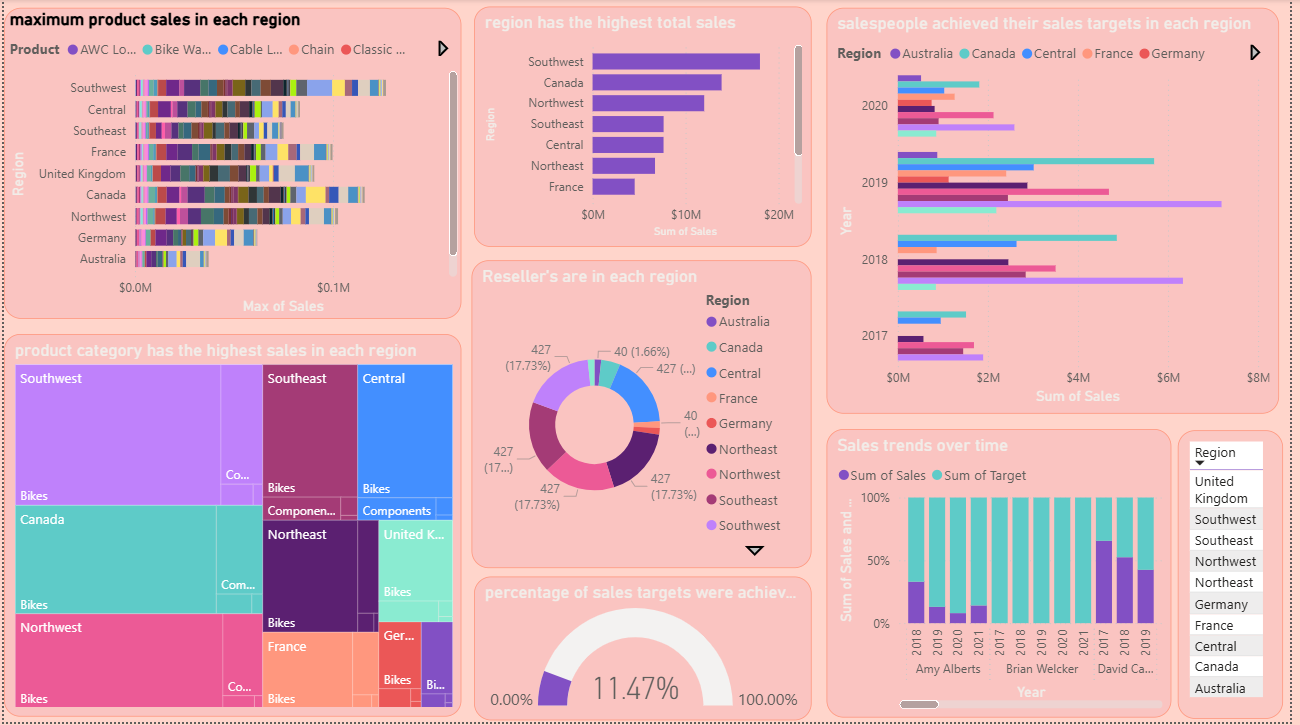

What the dashboard file says about the page in this screenshot:
{"tool":"powerbi","page":{"name":"Report","canvas":[1280,720],"ordinal":0},"visuals":[{"type":"barChart","title":"maximum product sales in each region","fields":{"Category":["Region.Region"],"Y":["Max(Sales.Sales)"],"Series":["Product.Product"]},"box":[0,8.7,455.3,309.7],"z":0},{"type":"treemap","title":"product category has the highest sales in each region","fields":{"Group":["Region.Region"],"Details":["Product.Category"],"Values":["Sum(Sales.Sales)"]},"box":[0,333.4,455.3,380.7],"z":1000},{"type":"clusteredBarChart","title":"region has the highest total sales","fields":{"Category":["Region.Region"],"Y":["Sum(Sales.Sales)"]},"box":[467.7,7.5,335.9,238.8],"z":2000},{"type":"donutChart","title":"Reseller''s are in each region","fields":{"Category":["Region.Region"],"Series":["Reseller.Country-Region"],"Y":["CountNonNull(Reseller.Reseller)"]},"box":[465.2,260,338.4,306],"z":3000},{"type":"hundredPercentStackedColumnChart","title":"Sales trends over time","fields":{"Category":["Salesperson.Salesperson","Targets.TargetMonth.Variation.Date Hierarchy.Year"],"Y":["Sum(Sales.Sales)","Sum(Targets.Target)"]},"box":[818.5,427.9,343.3,287.4],"z":4000},{"type":"clusteredBarChart","title":"salespeople achieved their sales targets in each region","fields":{"Category":["Sales.OrderDate.Variation.Date Hierarchy.Year"],"Y":["Sum(Sales.Sales)"],"Series":["Region.Region"]},"box":[818.5,8.7,450.3,404.3],"z":5000},{"type":"gauge","title":"percentage of sales targets were achieved in each region","fields":{"Y":["Product.TargetAchievement%"]},"box":[467.7,574.7,335.9,143.1],"z":6000},{"type":"tableEx","fields":{"Values":["Region.Region"]},"box":[1168.1,429.2,104.5,287.4],"z":7000}]}

Visuals, with their boxes in screenshot pixels (x1, y1, x2, y2), scaled from the page's 1280x720 canvas onto the 1300x725 screenshot:
"maximum product sales in each region" barChart: l=0, t=9, r=462, b=321
"product category has the highest sales in each region" treemap: l=0, t=336, r=462, b=719
"region has the highest total sales" clusteredBarChart: l=475, t=8, r=816, b=248
"Reseller''s are in each region" donutChart: l=472, t=262, r=816, b=570
"Sales trends over time" hundredPercentStackedColumnChart: l=831, t=431, r=1180, b=720
"salespeople achieved their sales targets in each region" clusteredBarChart: l=831, t=9, r=1289, b=416
"percentage of sales targets were achieved in each region" gauge: l=475, t=579, r=816, b=723
tableEx - Region.Region: l=1186, t=432, r=1292, b=722
